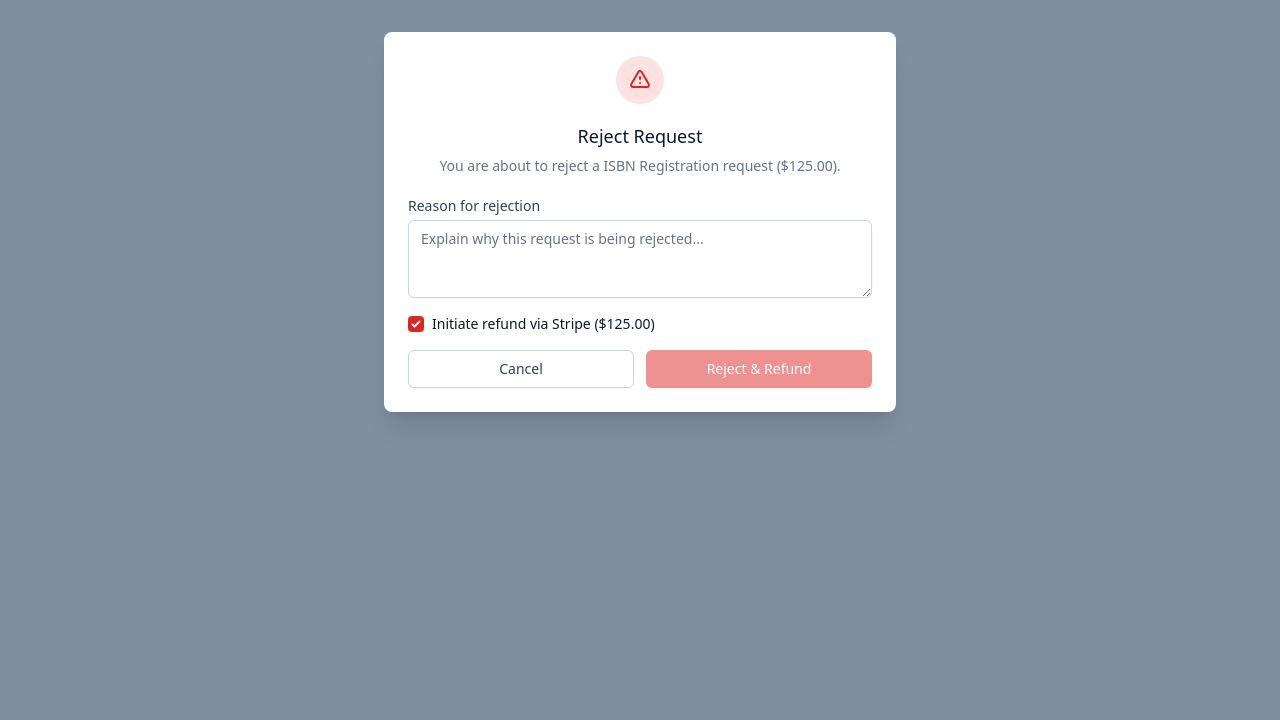
Scenario: RejectRequestModal › enables submit button when reason is provided
Step 1. Type "ISBN pool depleted" into the text box with placeholder "Explain why this request is being rejected..." → (640, 259), box [408,220,872,298]
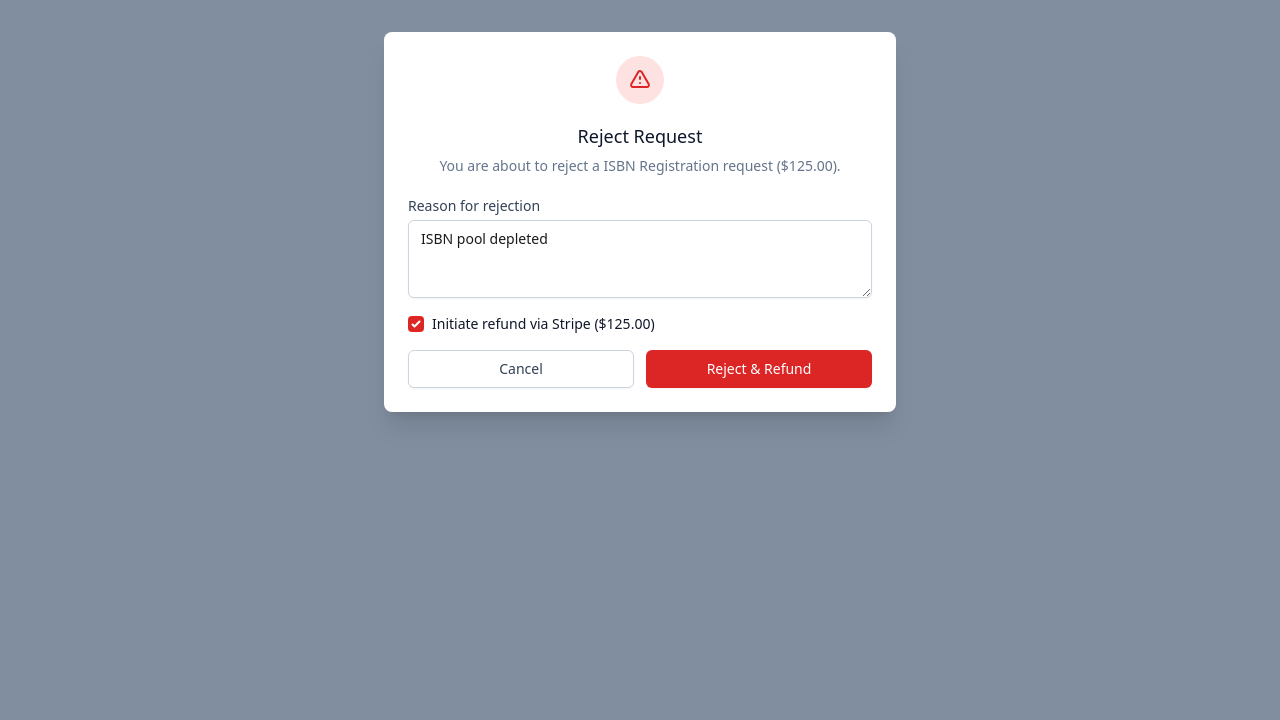
Now the button "Reject & Refund" is enabled, box [646,350,872,388]
